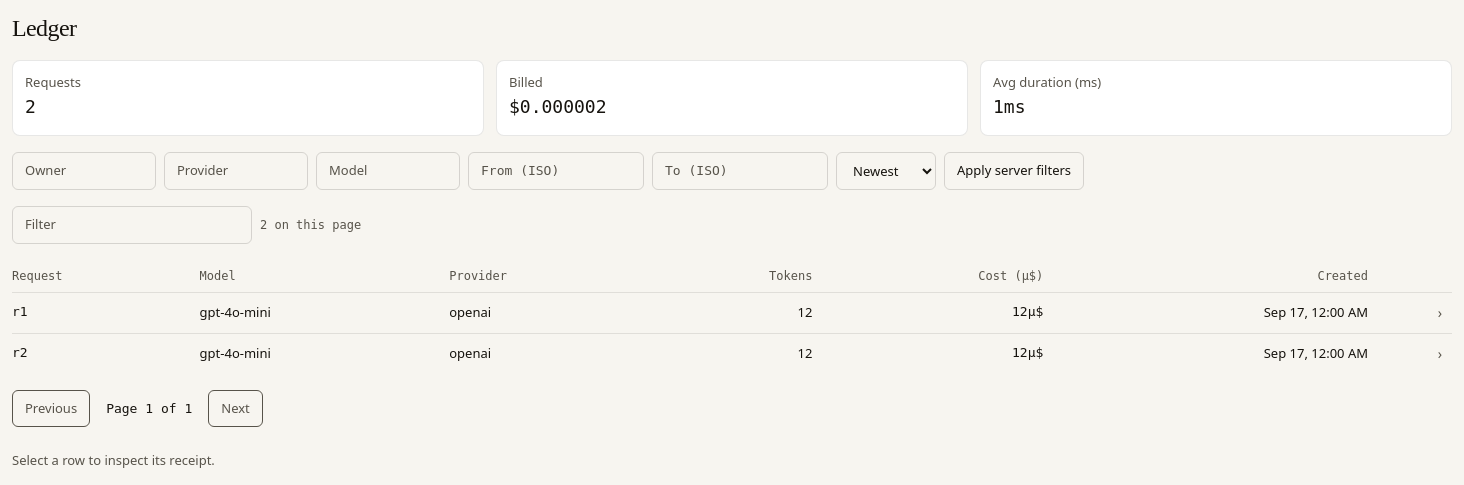
Test: LedgerPage › counts filter matches and clears the filter
Check: the table is shown, box [12,260,1452,374]
Check: the text "2 on this page" is shown, box [260,217,361,233]
Type "r1" into the search field named "filter audit log". click: (132, 225)
box: [12,206,252,244]
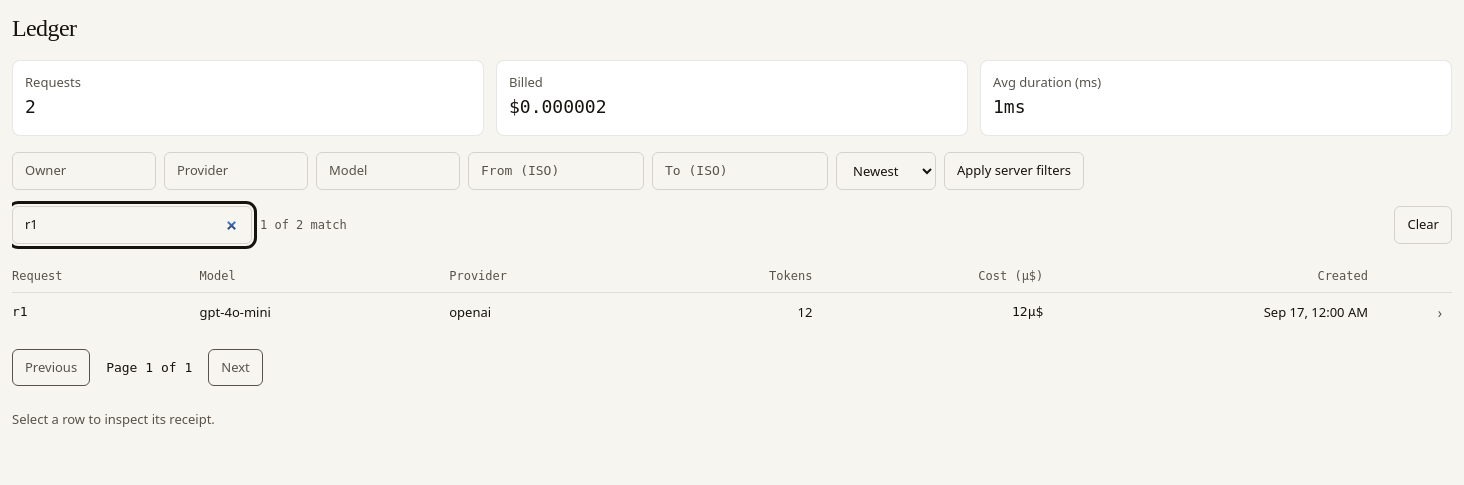
Check: the text "1 of 2 match" is shown, box [260,217,347,233]
Click the button "Clear". click: (1423, 225)
box: [1394,206,1452,244]
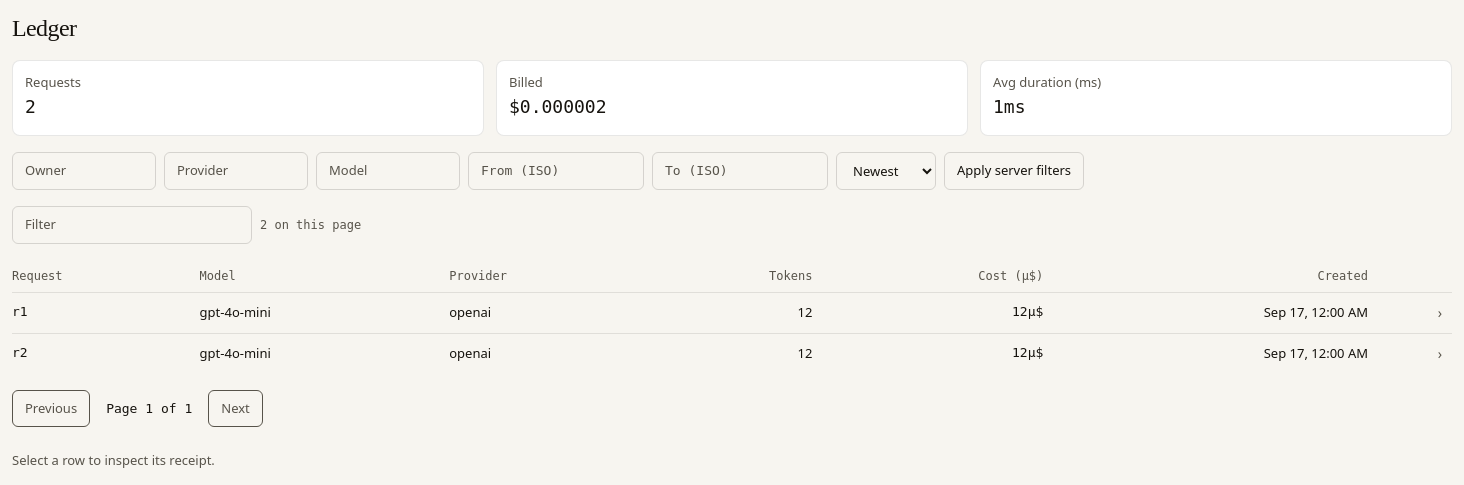
Check: the search field named "filter audit log" is empty, box [12,206,252,244]
Check: the text "2 on this page" is shown, box [260,217,361,233]
